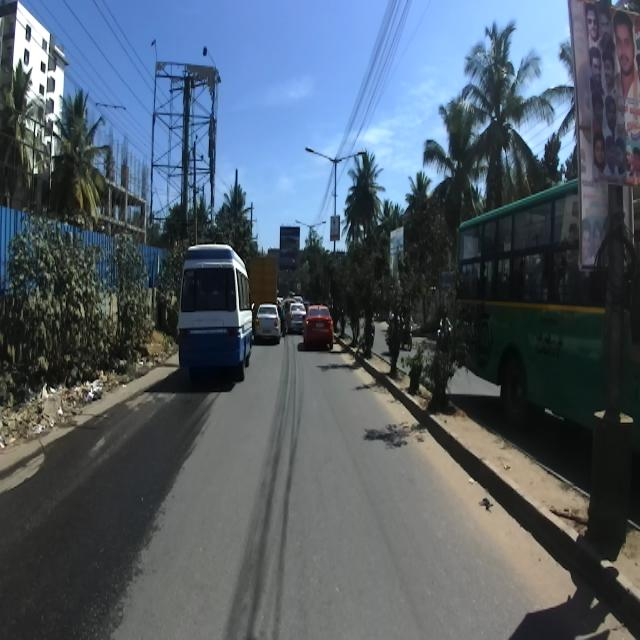bus ahead at: (174, 239, 260, 383)
car ahead at: (300, 306, 338, 361)
plant ahead at: (6, 223, 153, 385)
